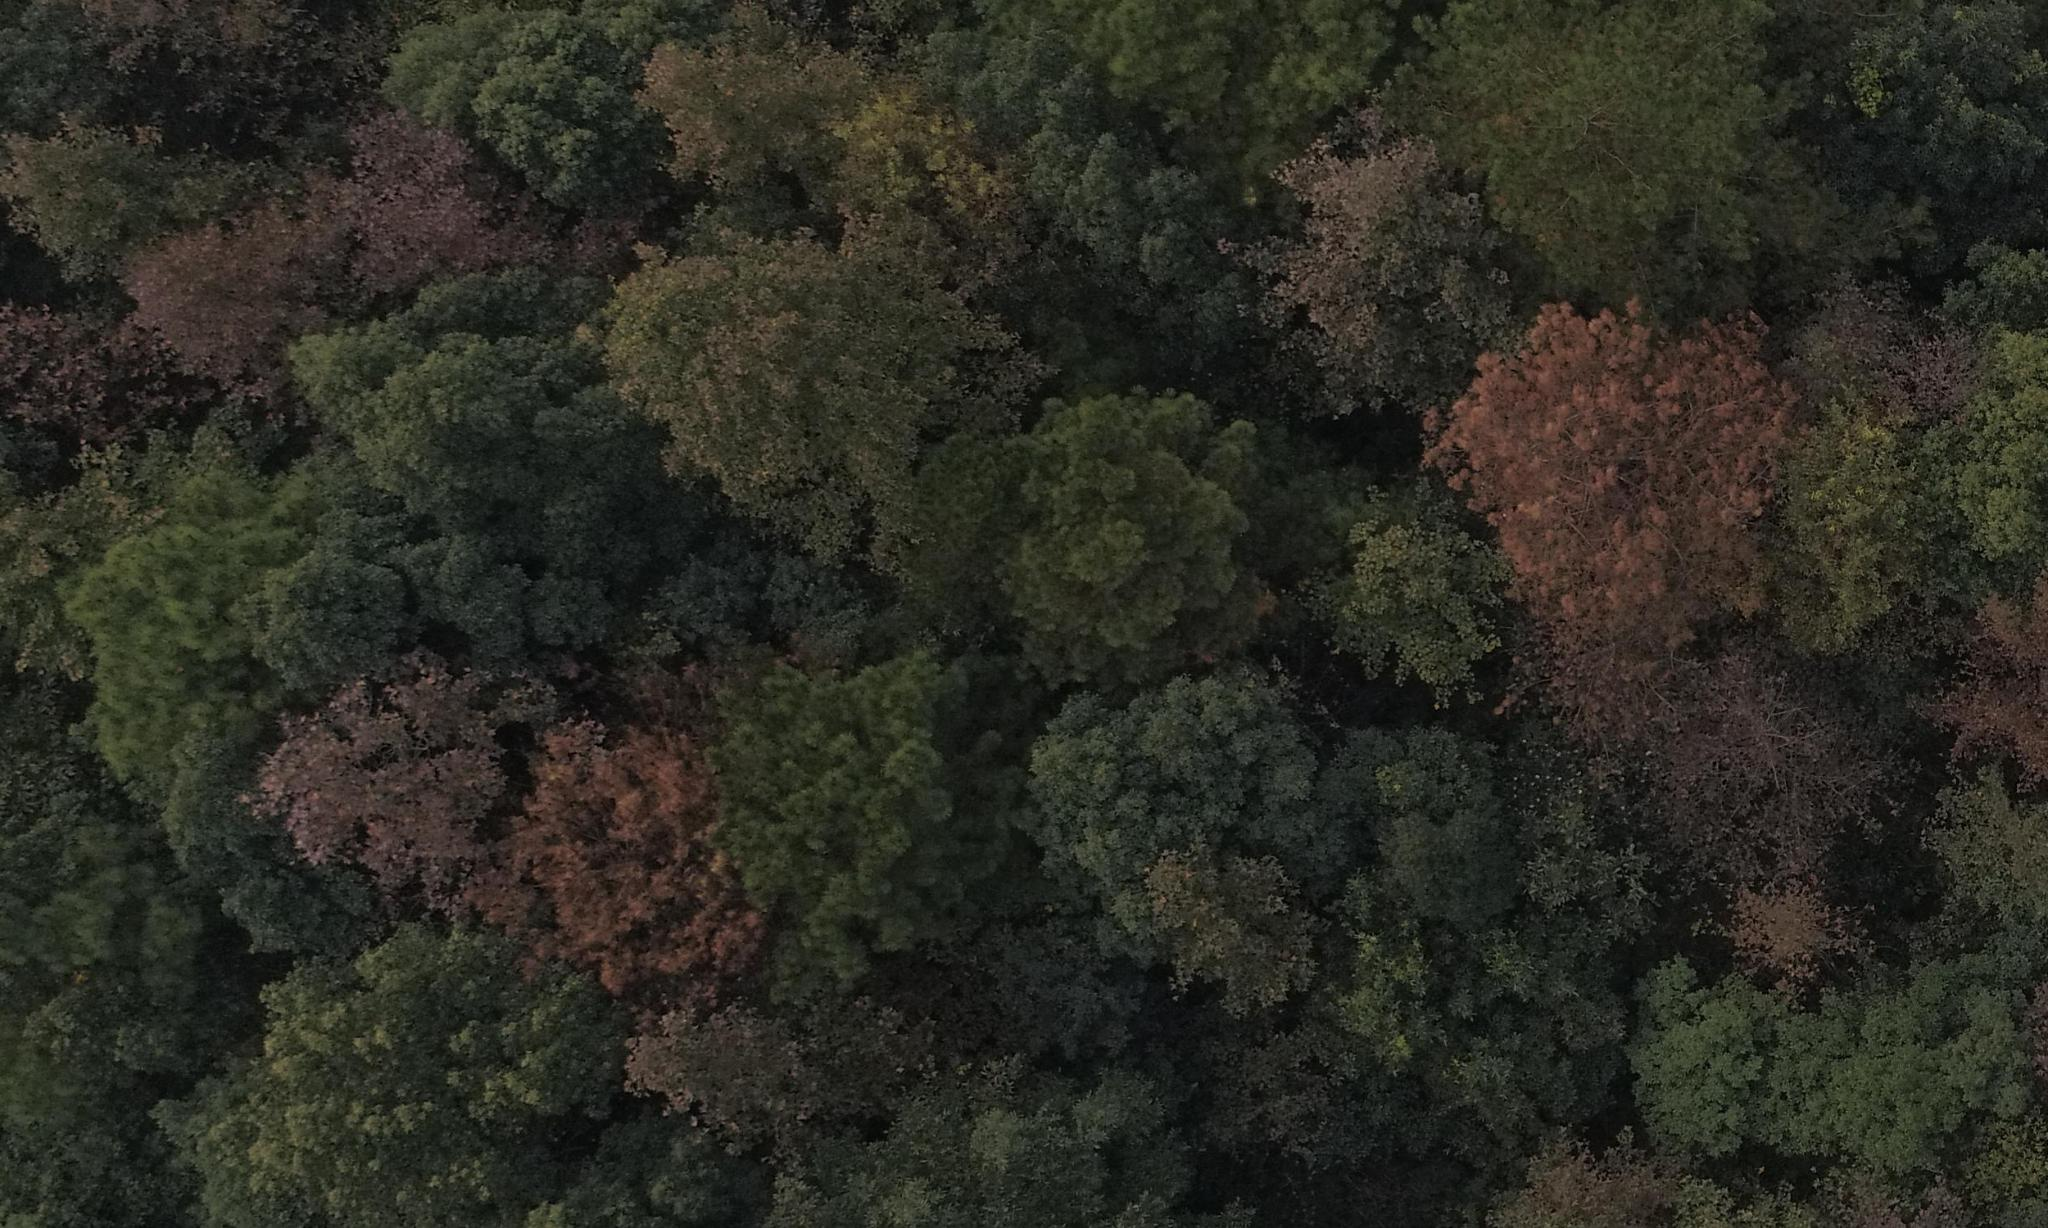heavy: (1419, 260, 1799, 610), (482, 706, 763, 988)
